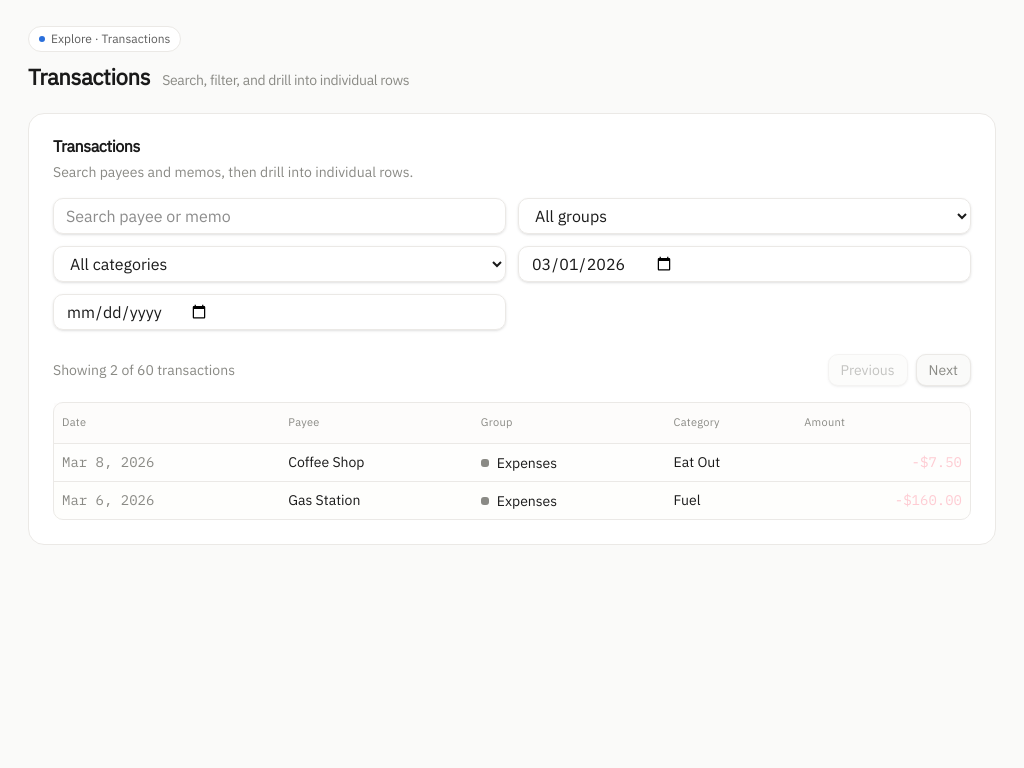
Test: TransactionsPage › opens a detail sheet when a row is clicked and closes it
Expected: the text "Coffee Shop" is shown, top-left (288, 453), bottom-right (364, 471)
Click the text "Coffee Shop" at (512, 462), box top-left (54, 443), bottom-right (970, 481)
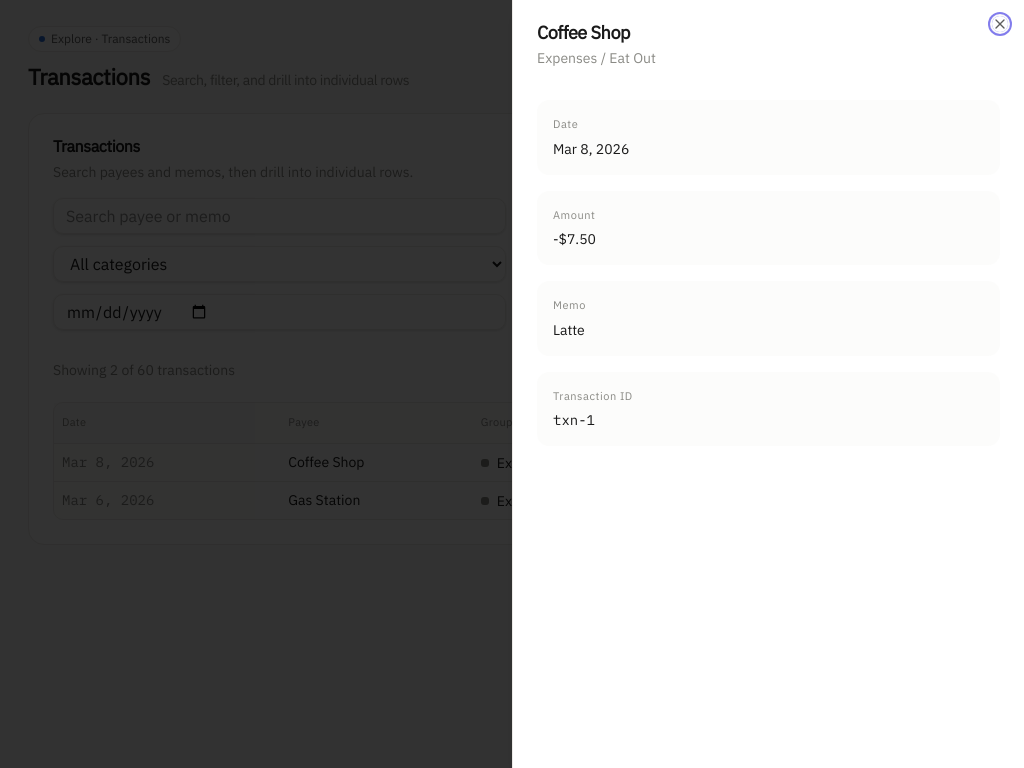
Expected: the heading "Coffee Shop" is shown, top-left (537, 21), bottom-right (630, 44)
Expected: the text "Latte" is shown, top-left (553, 320), bottom-right (585, 338)
Expected: the text "txn-1" is shown, top-left (553, 411), bottom-right (595, 429)
Press Escape
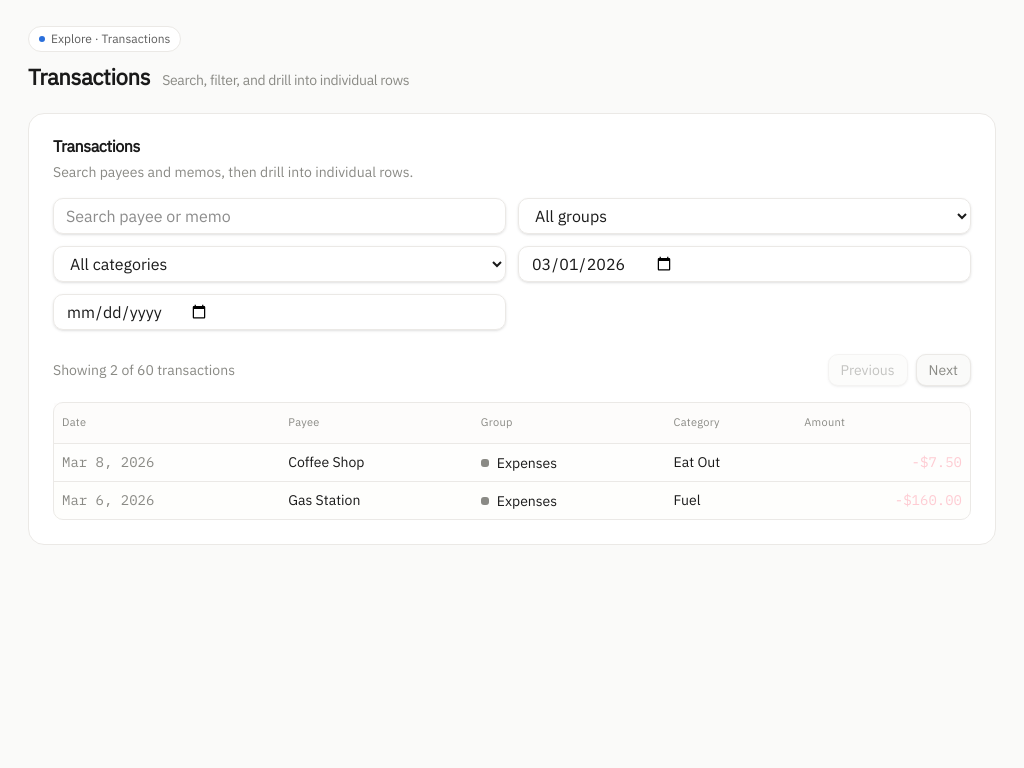
Expected: the dialog is gone
